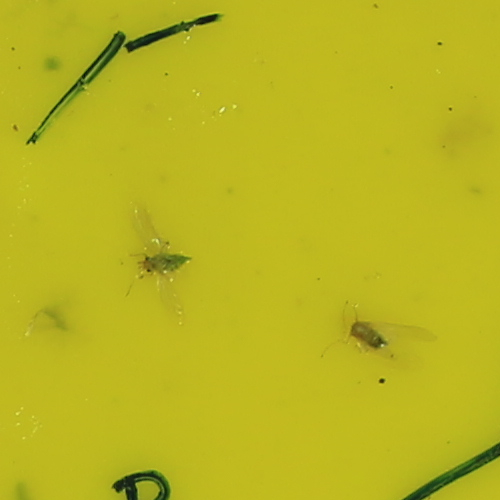psylla: (139, 249, 196, 279), (346, 321, 388, 349)
